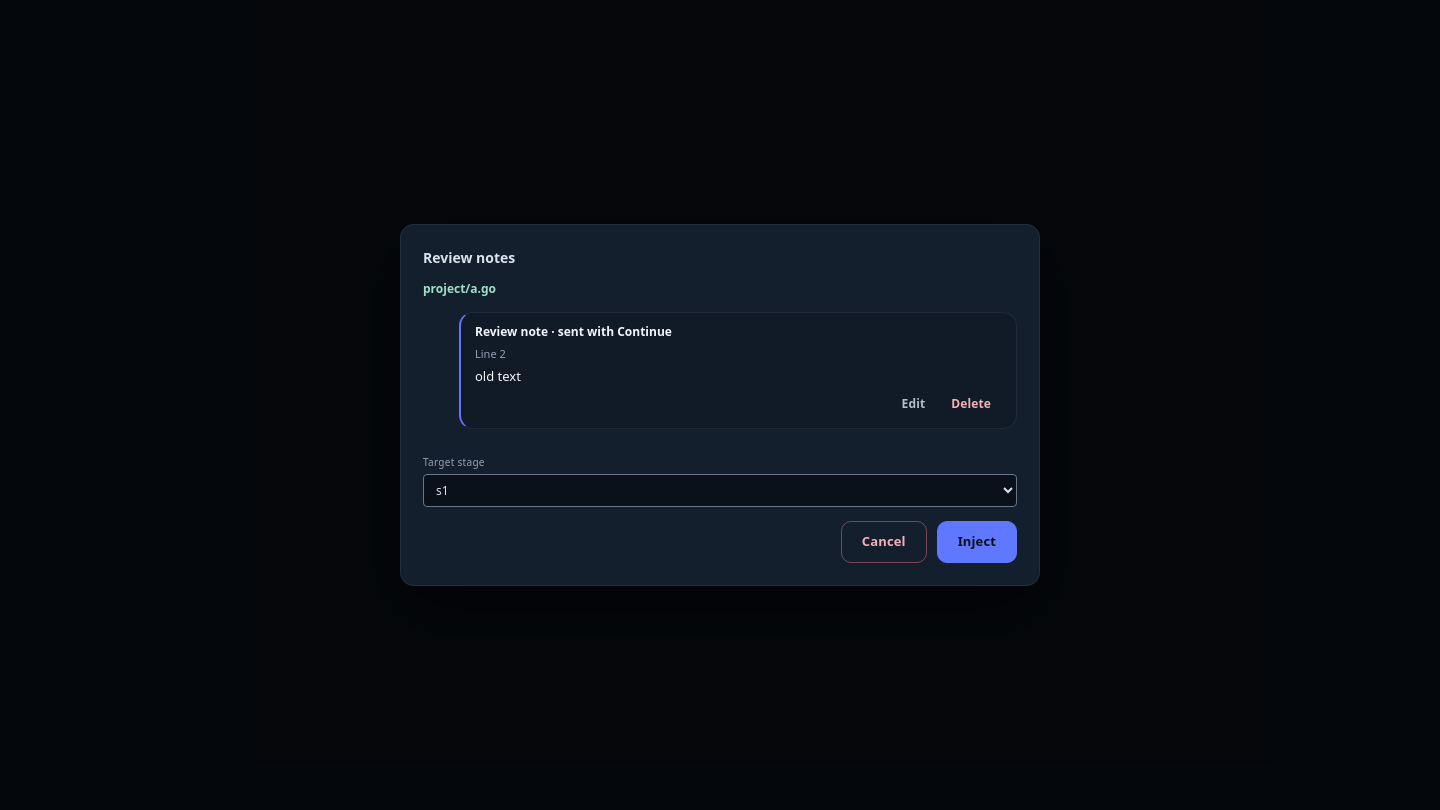
Test case: ReviewNotesModal › keeps a half-typed edit after folding and restores it in the editor
Expected: the text "old text" is shown, [475,367,521,385]
Click the button with aria-label "Edit review note on line 2" at (913, 404), box [891,390,936,418]
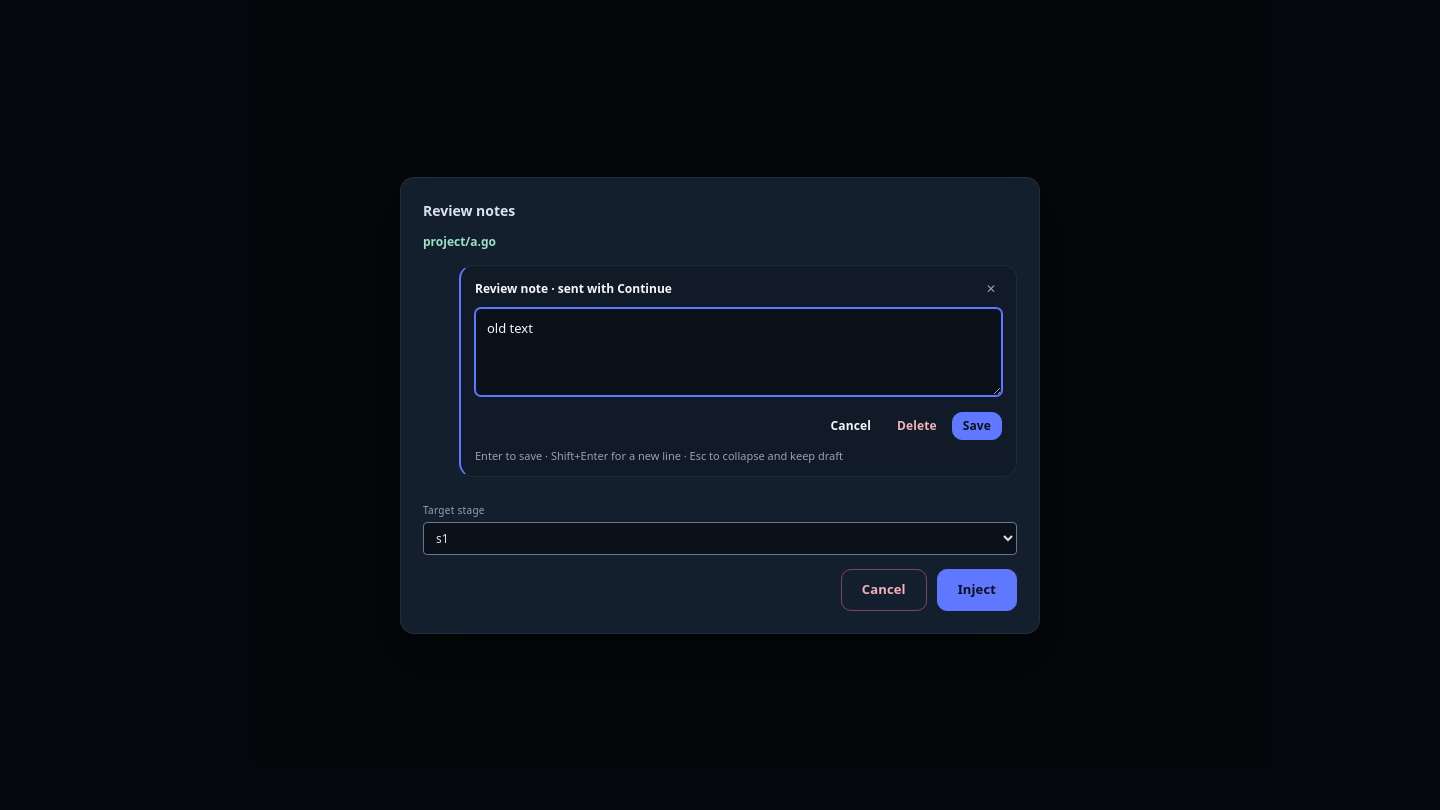
Replace the text in the text box with "half typed" at (738, 352), box [475,308,1002,396]
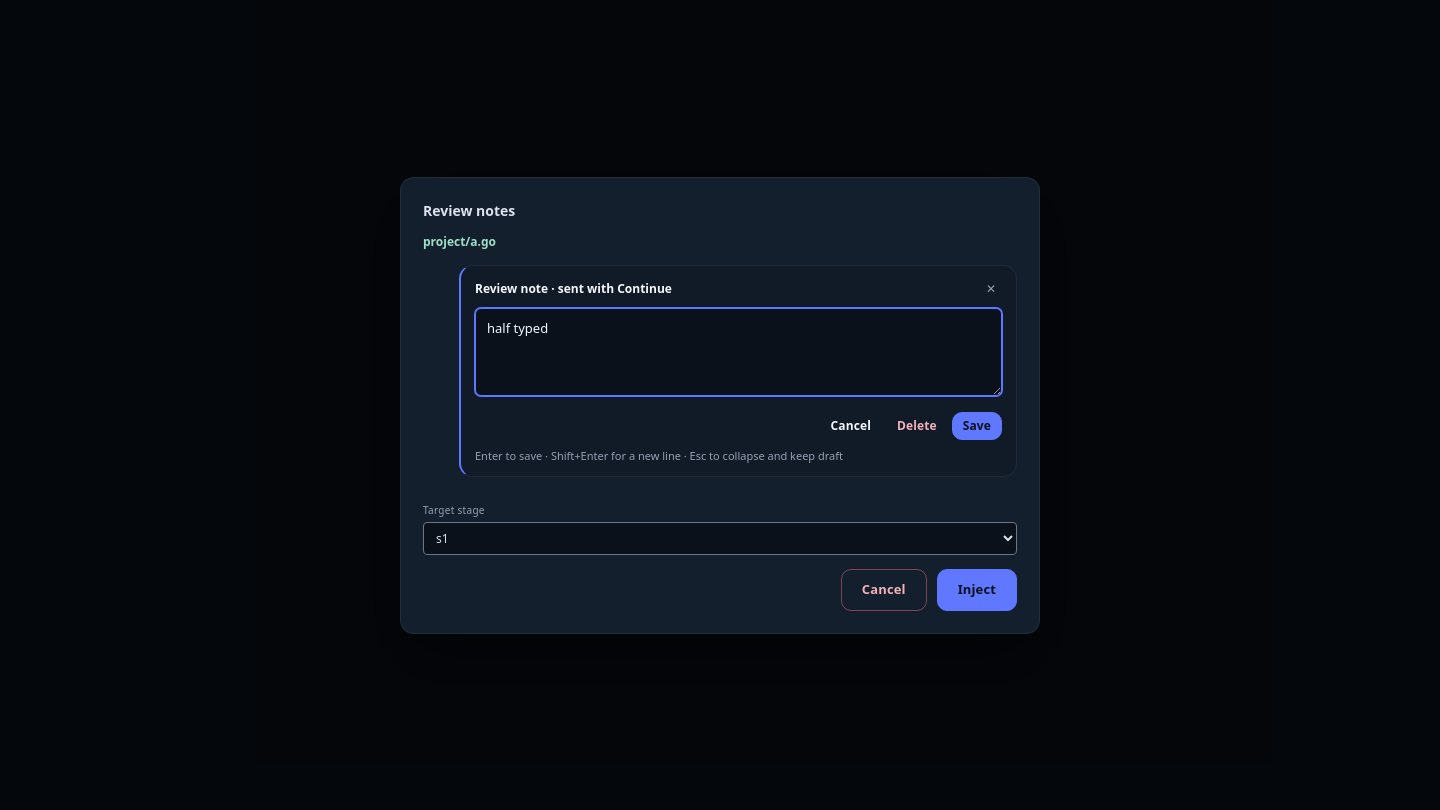
Press Escape in the text box, box [475,308,1002,396]
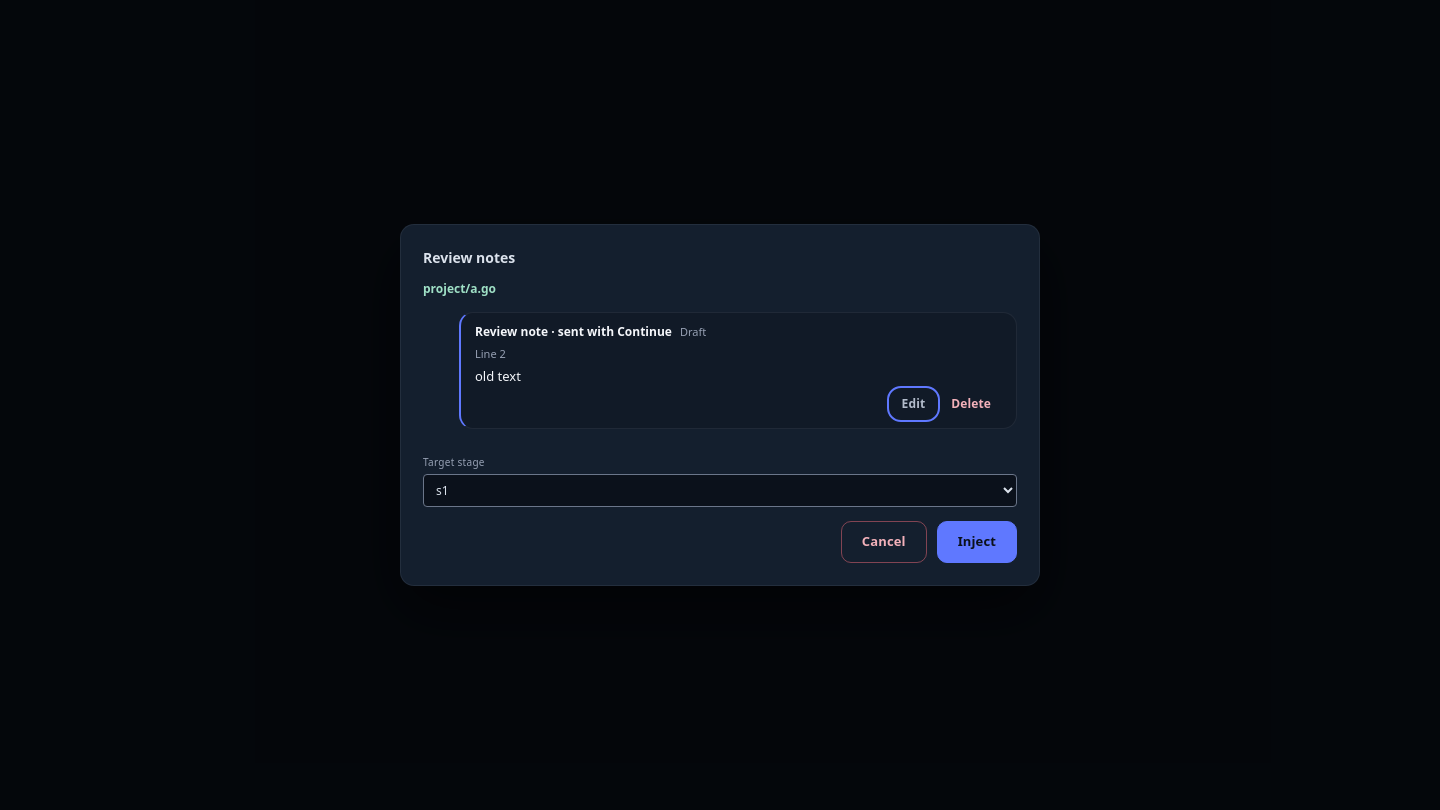
Expected: the text "Draft" is shown, [680,324,706,340]
Click the button with aria-label "Edit review note on line 2" at (913, 404), box [891,390,936,418]
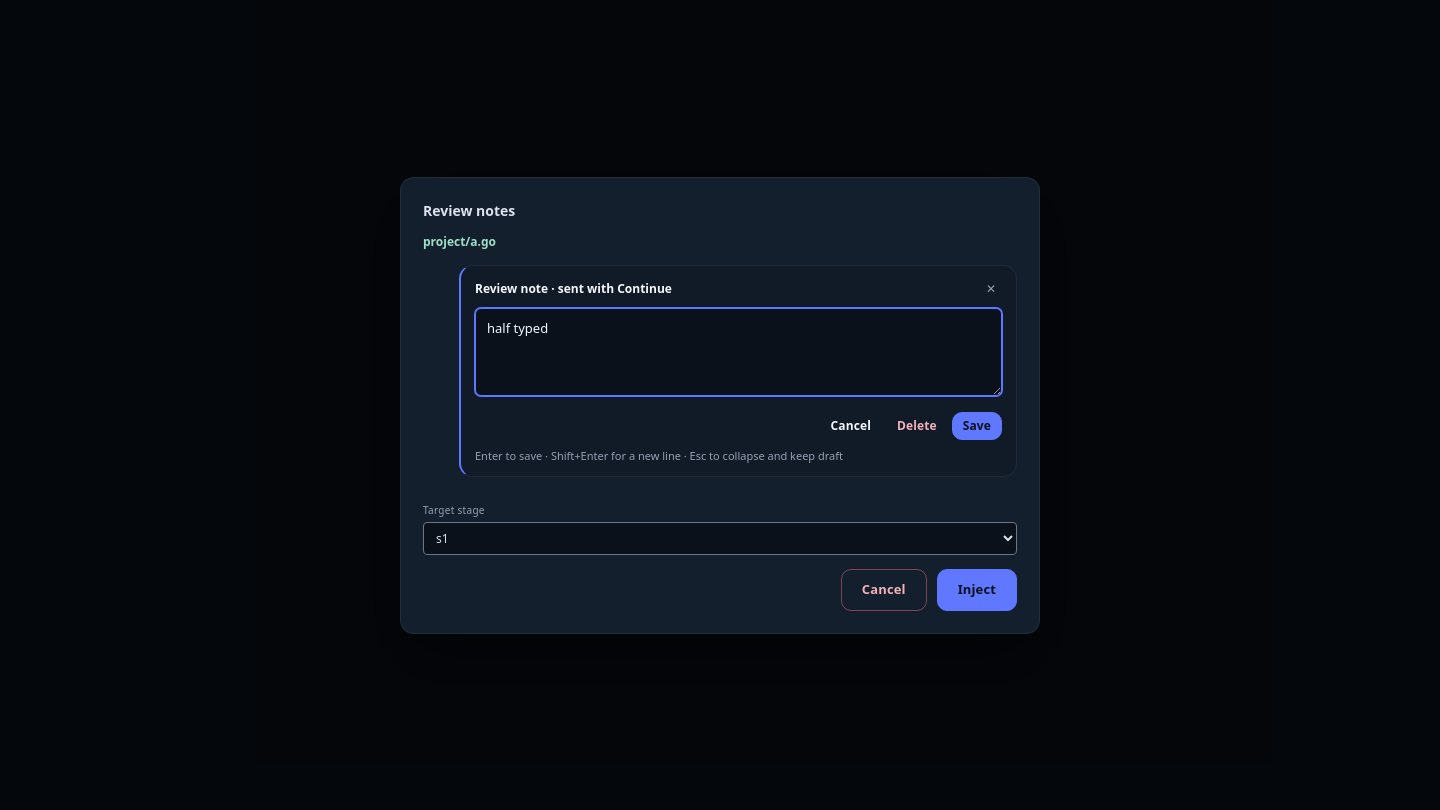
Expected: the text box holds "half typed", [475,308,1002,396]
